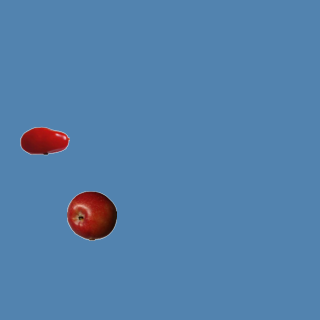Apple Braeburn: (66, 190, 116, 240)
Tomato 2: (19, 115, 69, 165)
